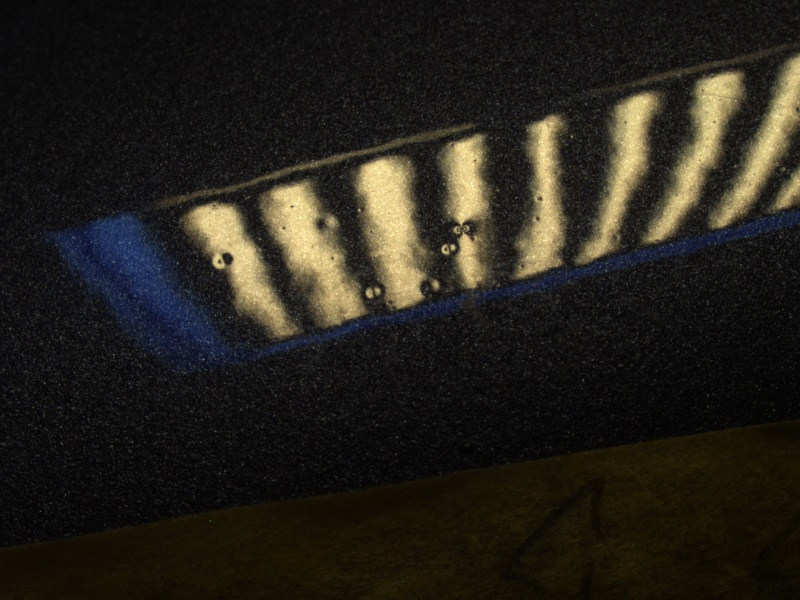bad: (447, 213, 481, 246), (202, 244, 240, 272), (310, 208, 345, 238), (358, 275, 389, 308), (415, 268, 443, 303), (432, 238, 464, 259)
